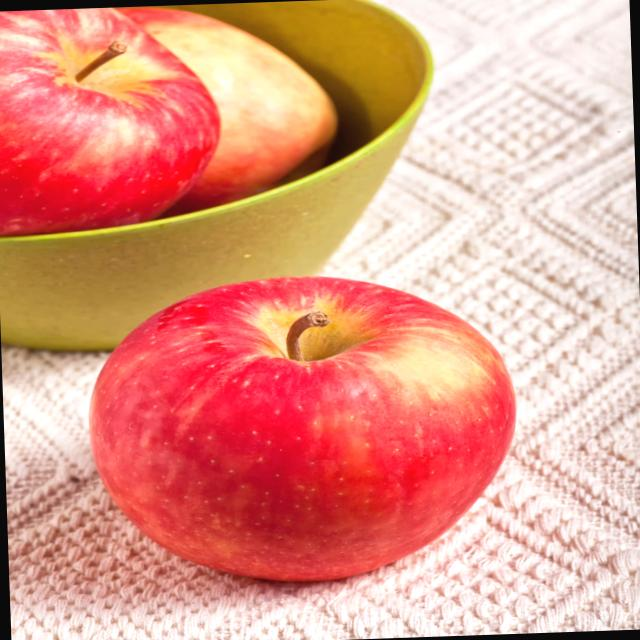apple: (60, 268, 525, 594), (47, 0, 348, 219), (0, 3, 226, 243)
